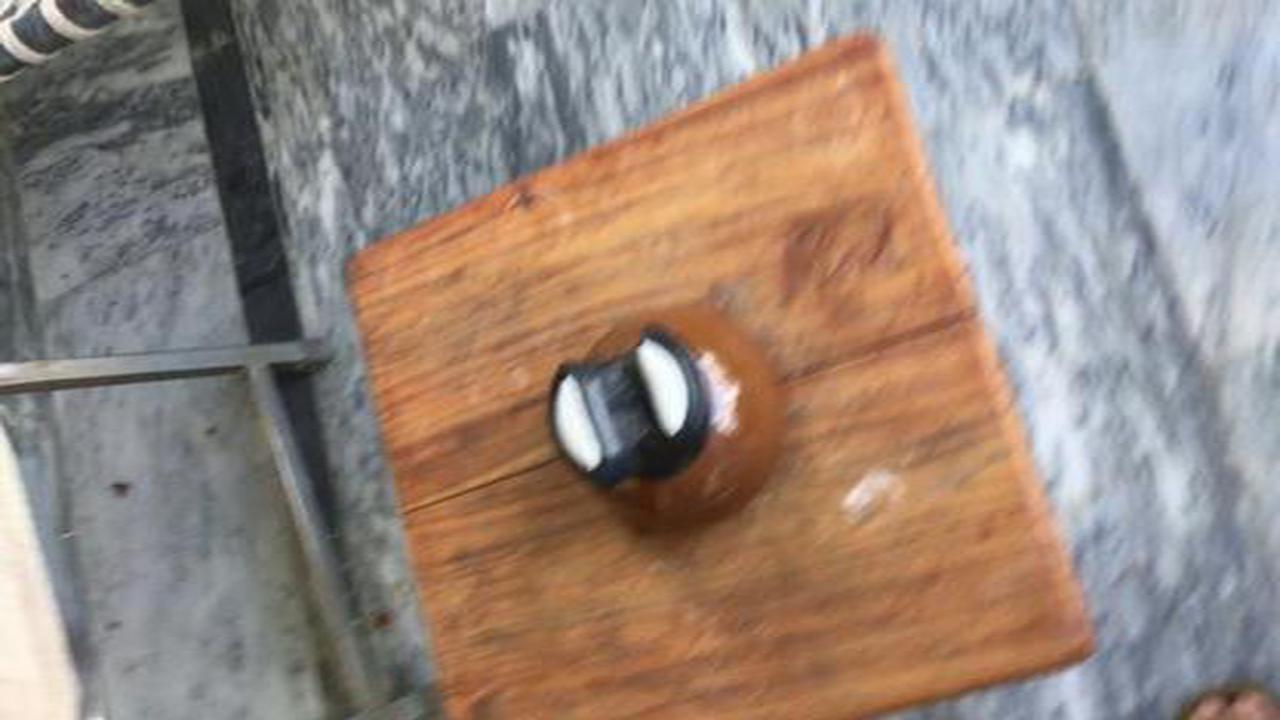insulator_pin: (527, 302, 813, 547)
